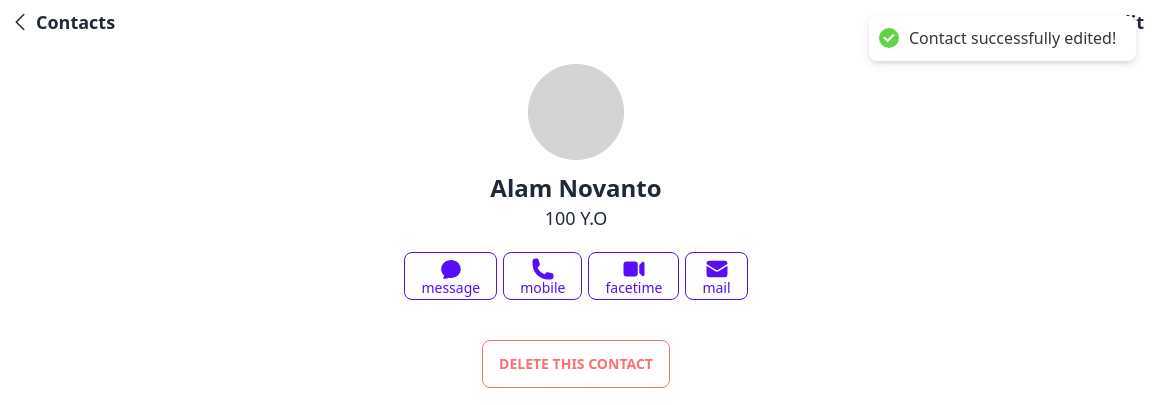
Test: Contact Details page › Should render success message after successfully deleting contact
The image size is (1152, 405).
Click the button "Delete this contact".
click(576, 364)  # box [482,340,670,388]
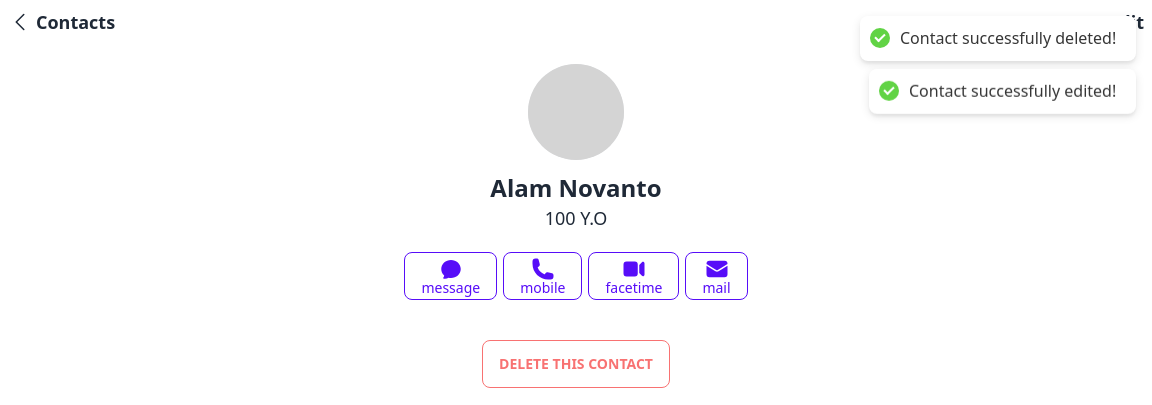
expect the text "Contact successfully deleted!" is shown: met, box [900,28,1116,49]
